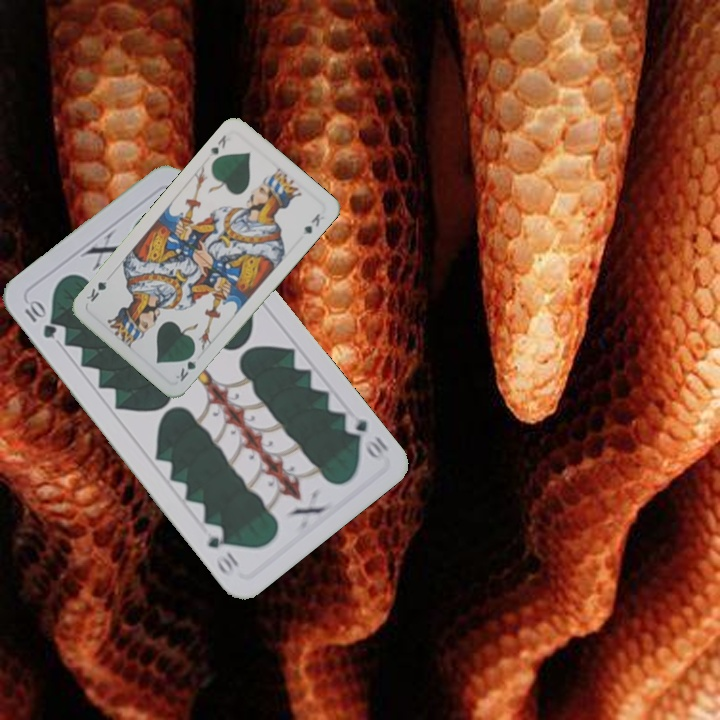G10: (340, 409, 392, 462), (20, 296, 60, 341)
GK: (172, 347, 199, 384), (206, 130, 229, 157)
